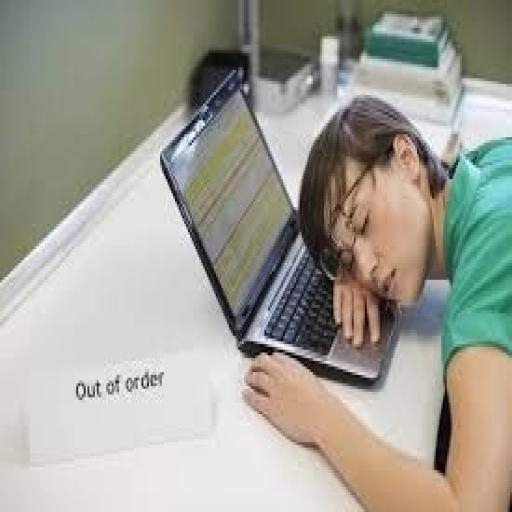sleeping: (240, 90, 510, 509)
